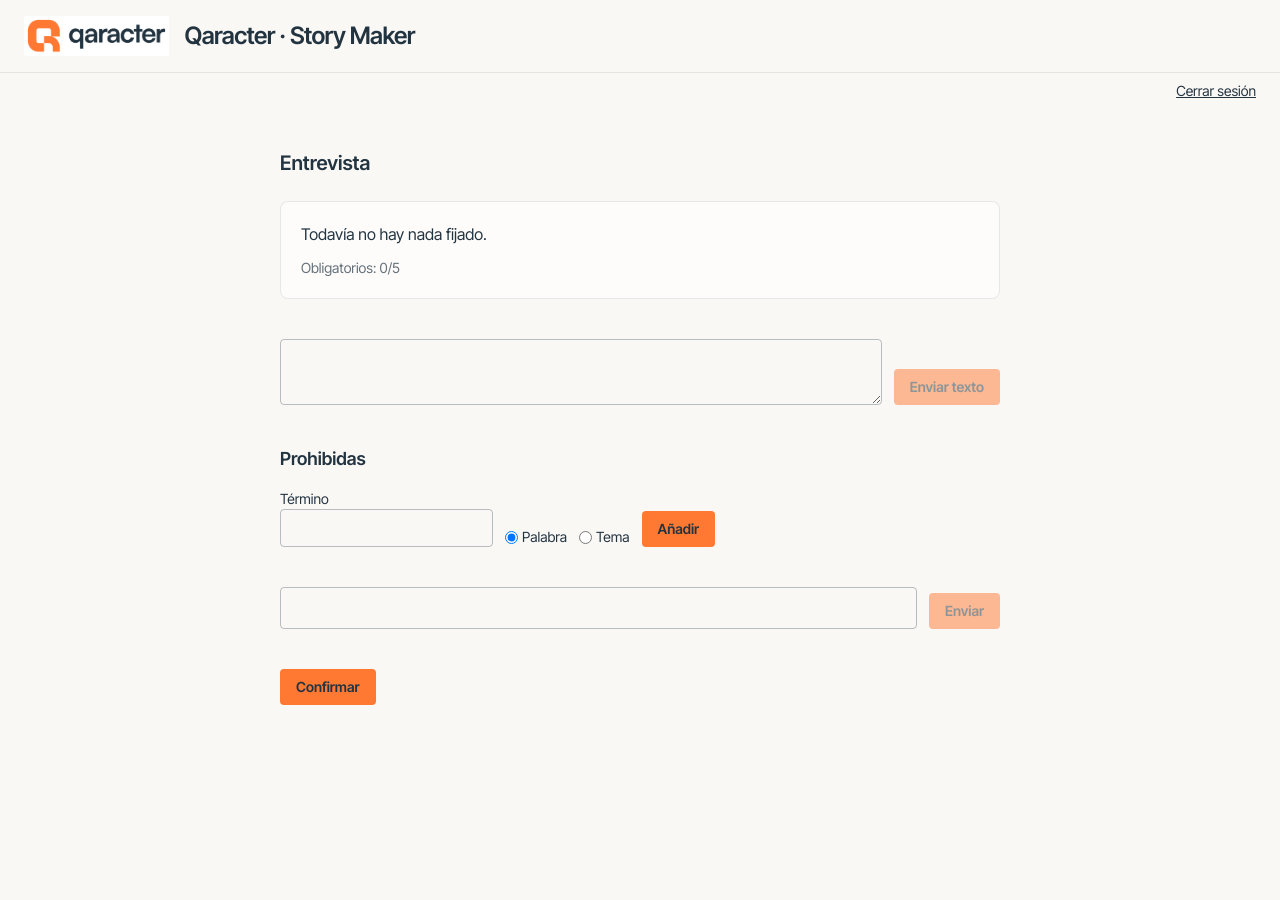
it: 024 entrevista: chat › 024-C02: sending a message shows it followed by the interviewer's reply
The image size is (1280, 900).
Expected: the form named "Entrevista" is shown, [280,587,1000,629]
Step 1. Type "Se llama Marta y cumple 40" into the field named "Mensaje" → point(598, 608), box [280,587,917,629]
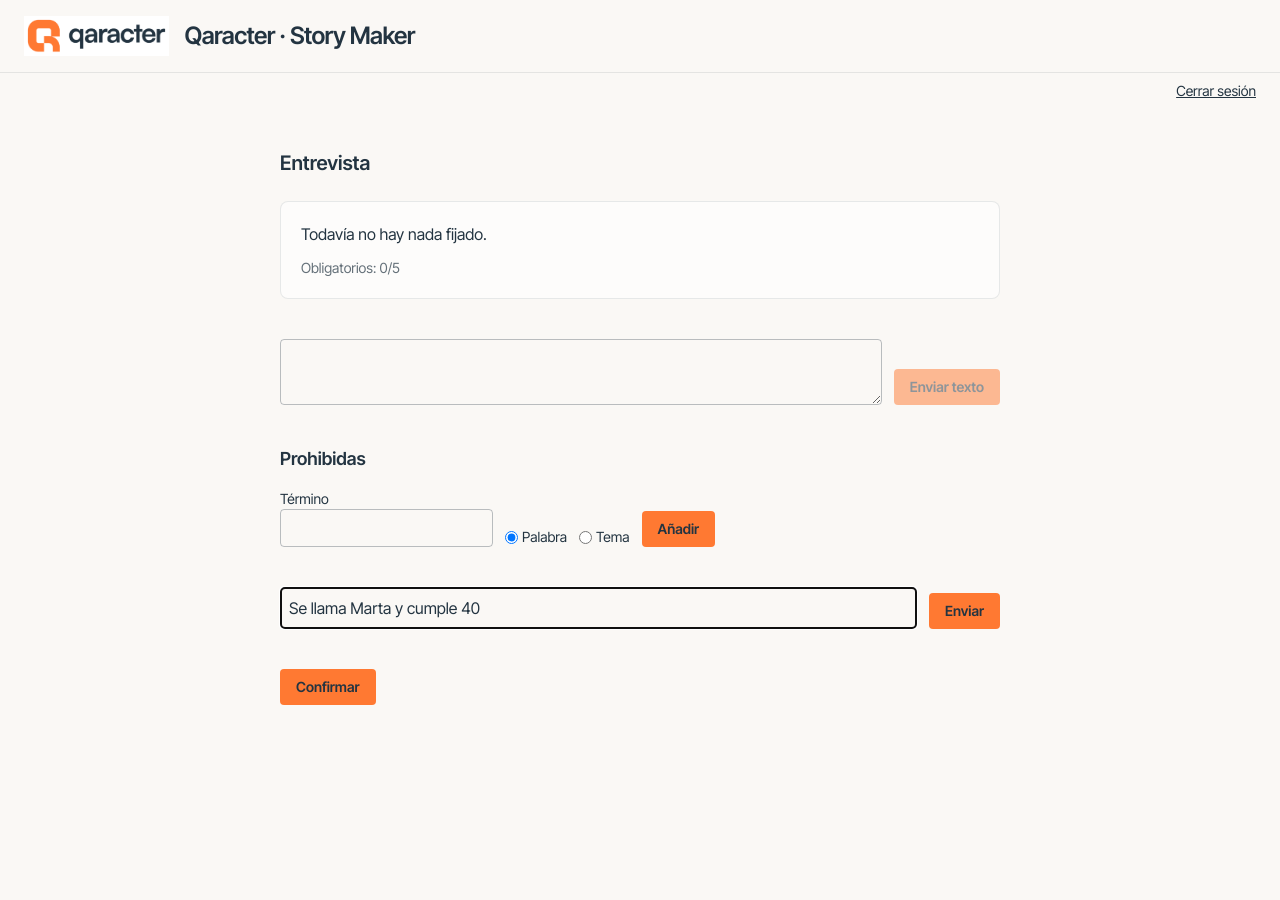
Step 2. Click the button "Enviar" → point(964, 611), box [929,593,1000,629]
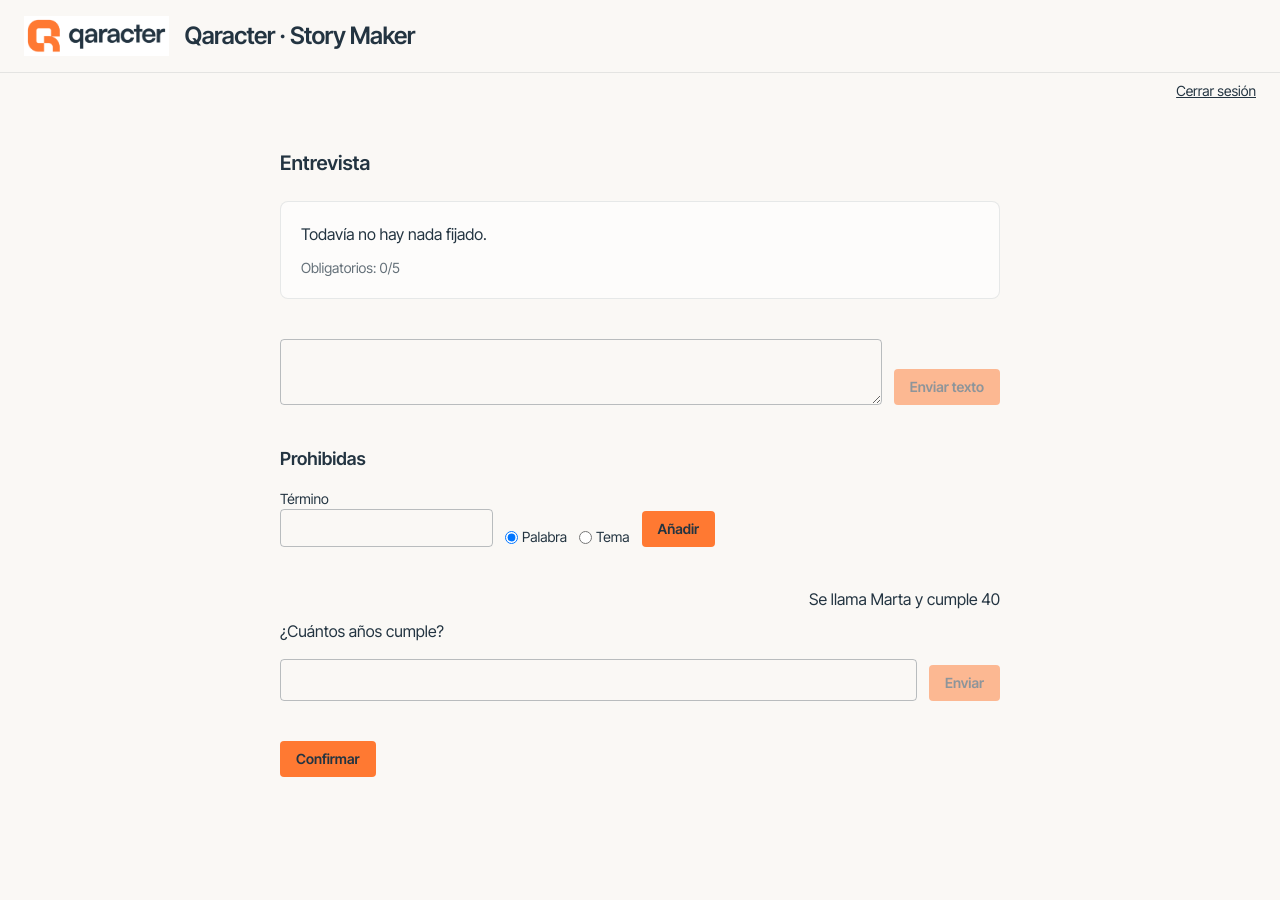
Expected: the list items read "Se llama Marta y cumple 40", "¿Cuántos años cumple?", in this order, [809,589,1000,609]; [280,621,444,641]
